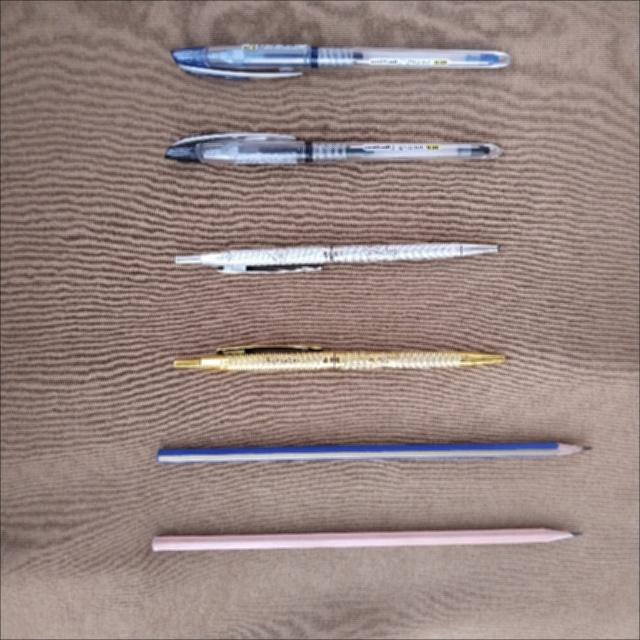pen: (171, 44, 511, 79), (165, 132, 501, 164)
pencil: (152, 528, 580, 550), (156, 442, 588, 463)
signature pen: (175, 243, 498, 273), (174, 345, 504, 371)
